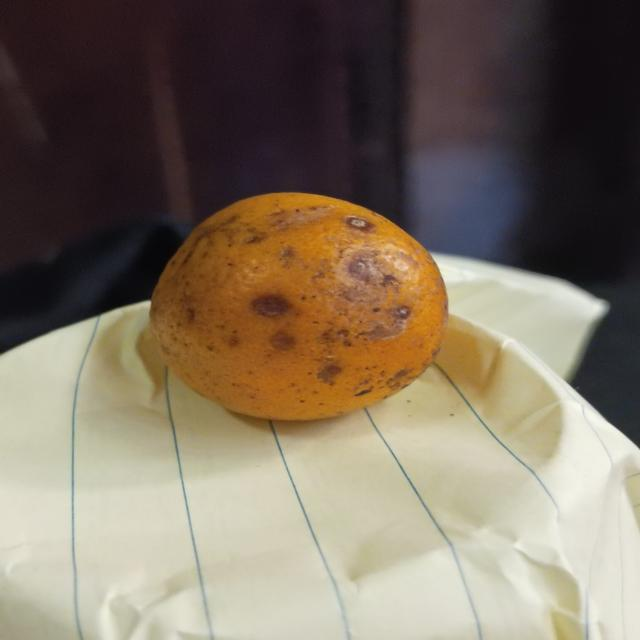black spot: (148, 183, 459, 425)
